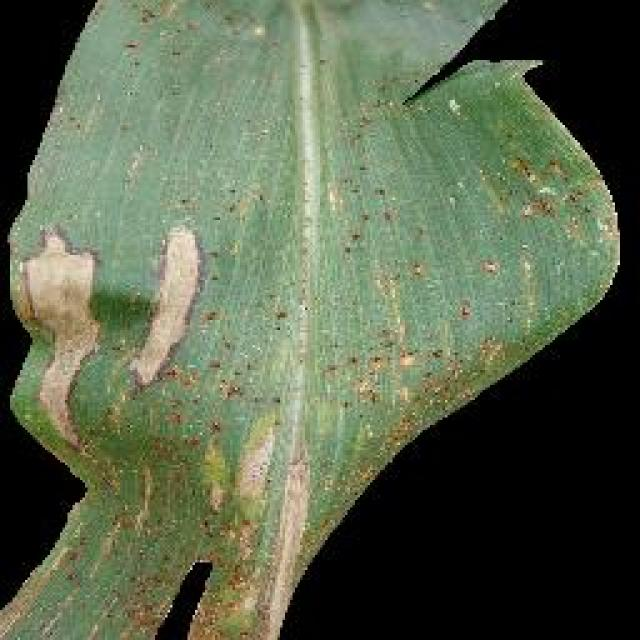Corn Common Rust: (40, 67, 435, 560)
